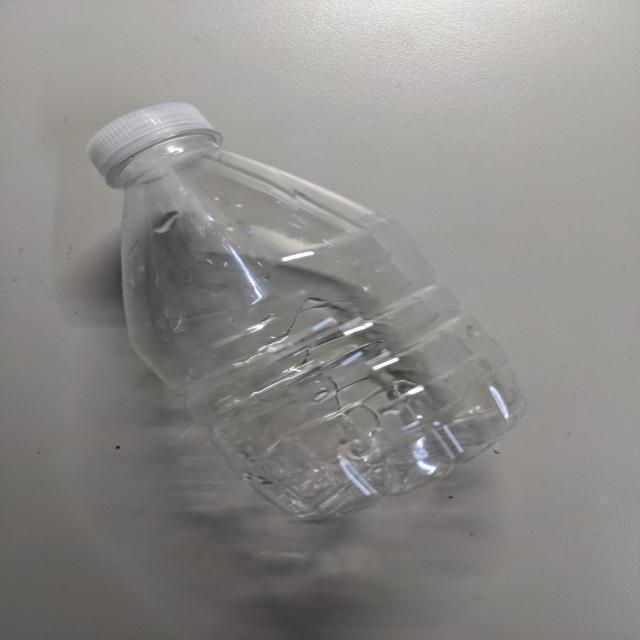Plastic: (80, 99, 526, 518)
